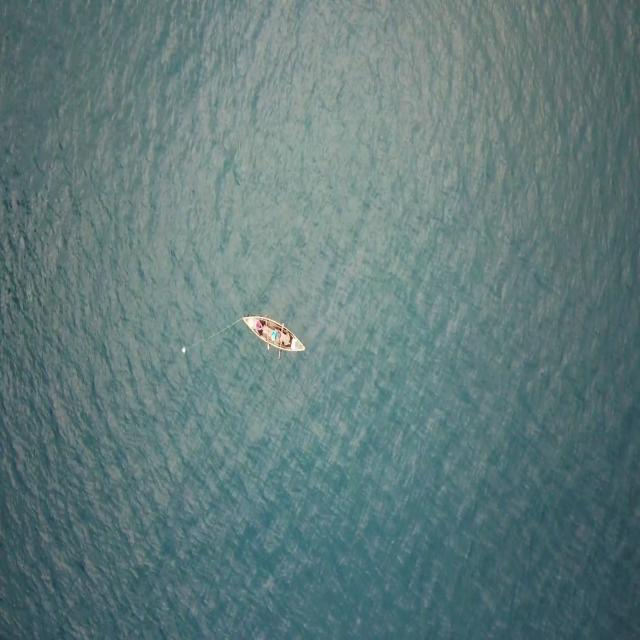ship: (241, 308, 308, 357)
